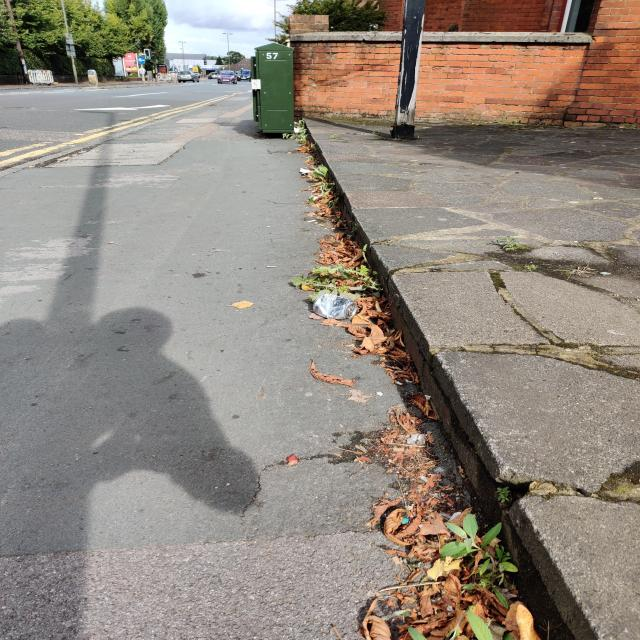litter: (308, 291, 362, 323)
